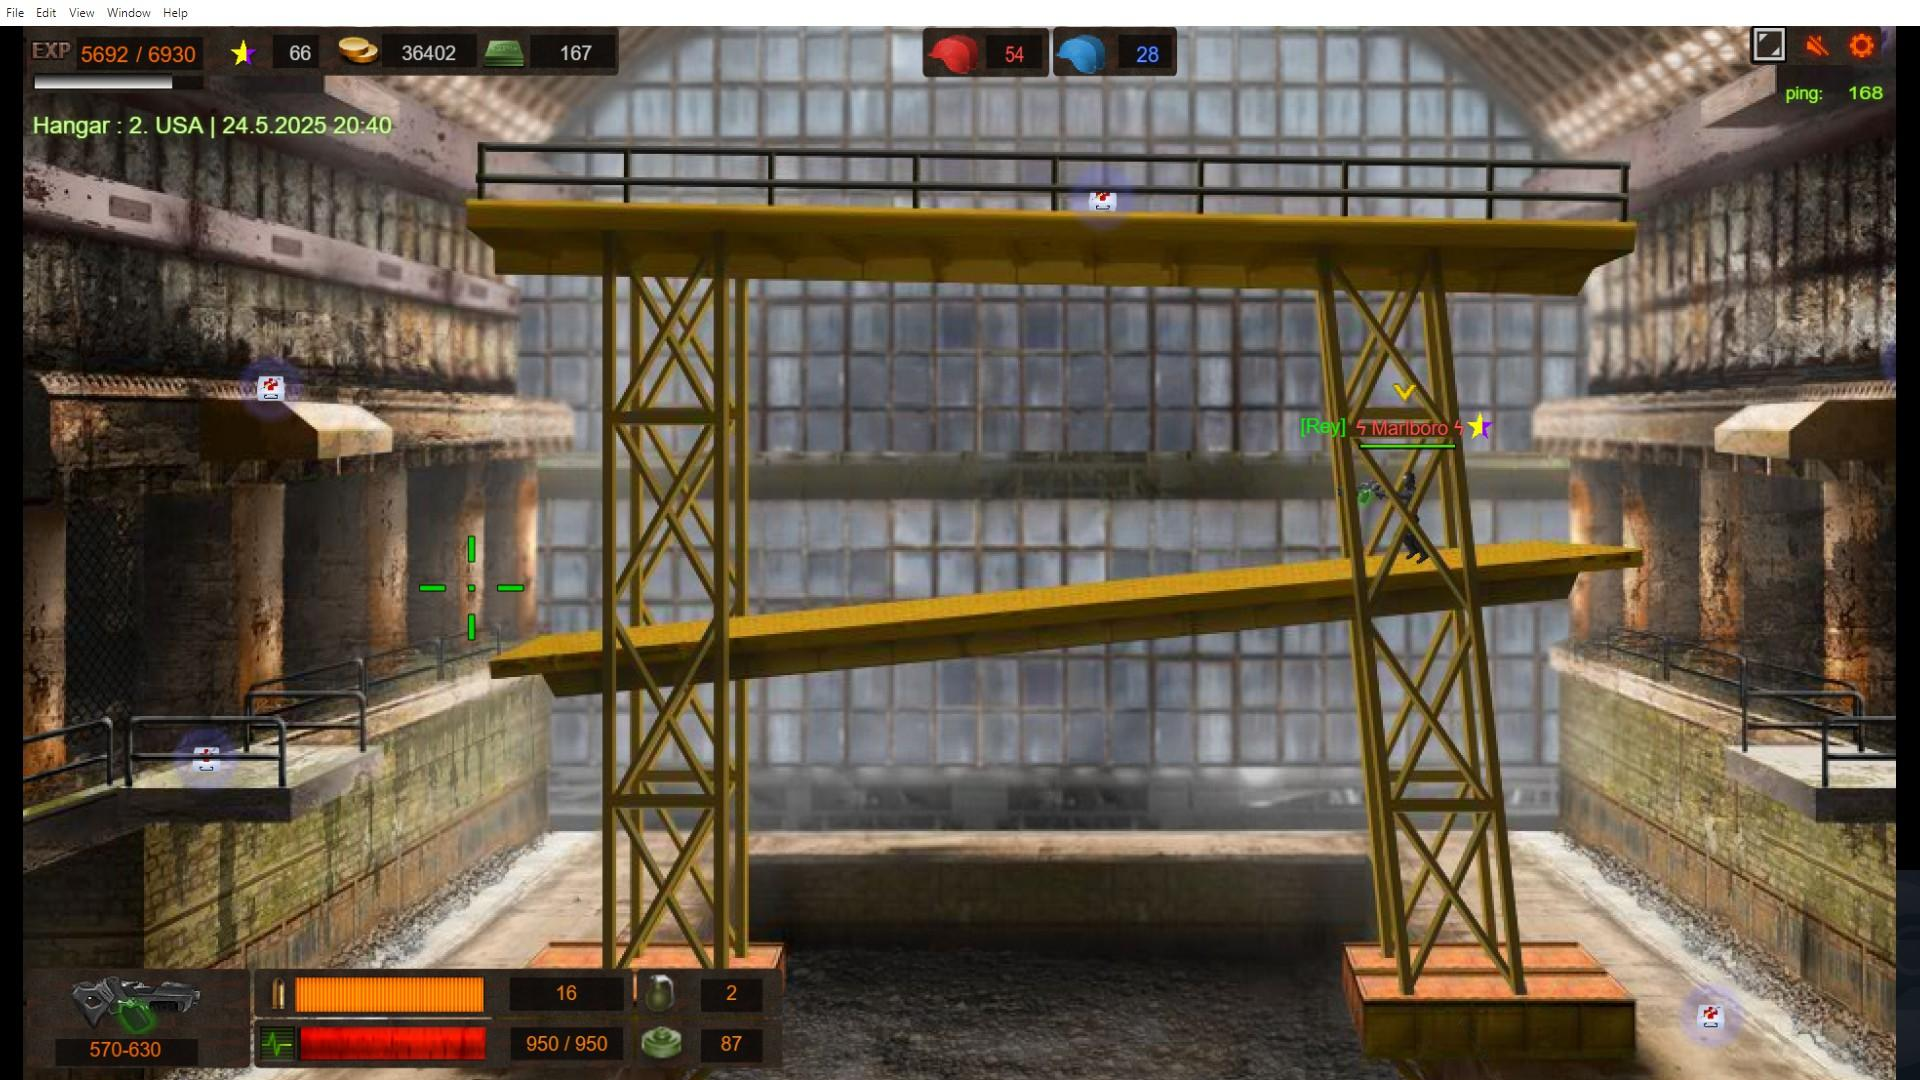enemy: (1399, 475, 1427, 563)
